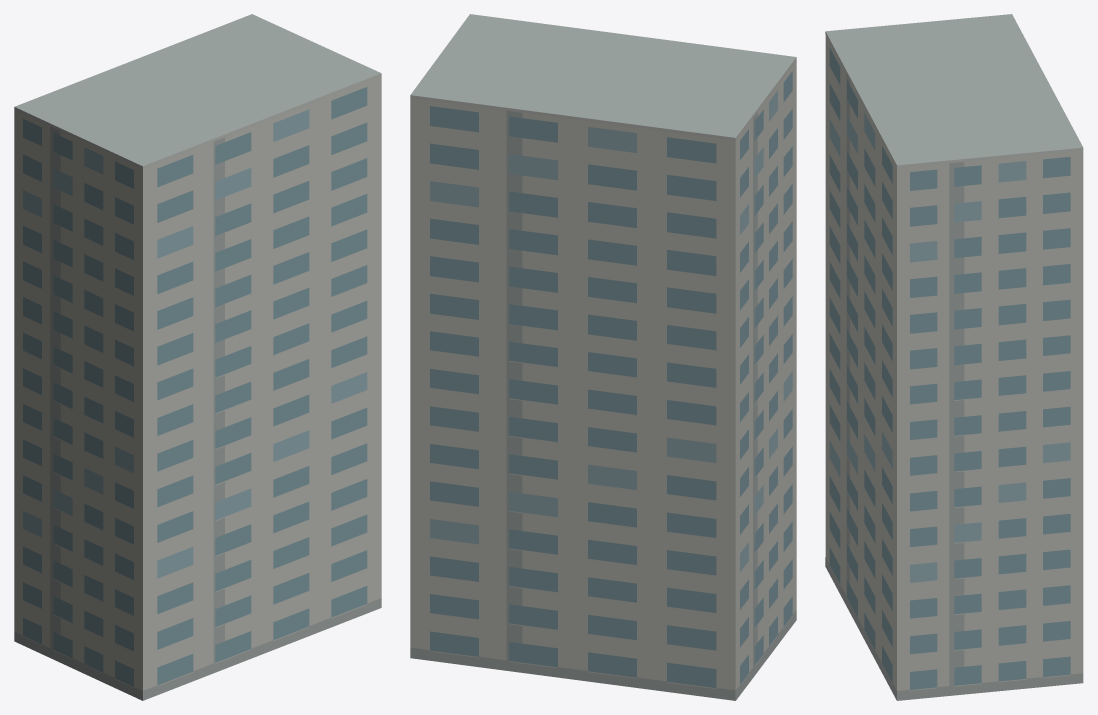
File: residential-39a7d679-6367-4c9f-a4cc-4a288fd2d3ea.glb
3 renders of one model, left to right at view 1: azimuth 30°, elevation 25°; view 2: azimuth 150°, elevation 25°; view 3: azimuth 270°, elevation 25°, orthographic. The views are drawn at different scales.
Parts seen in each view (by area): view 1: residential-39a7d679-6367-4c9f-a4cc-4a288fd2d3ea.tmp; view 2: residential-39a7d679-6367-4c9f-a4cc-4a288fd2d3ea.tmp; view 3: residential-39a7d679-6367-4c9f-a4cc-4a288fd2d3ea.tmp.
Part boxes in pixels (x1,y1,x2,y2): residential-39a7d679-6367-4c9f-a4cc-4a288fd2d3ea.tmp: [14, 14, 381, 700]; residential-39a7d679-6367-4c9f-a4cc-4a288fd2d3ea.tmp: [410, 14, 796, 700]; residential-39a7d679-6367-4c9f-a4cc-4a288fd2d3ea.tmp: [825, 14, 1083, 700].
Bounding box in the file's own units: 27.91 × 46 × 20.09.
